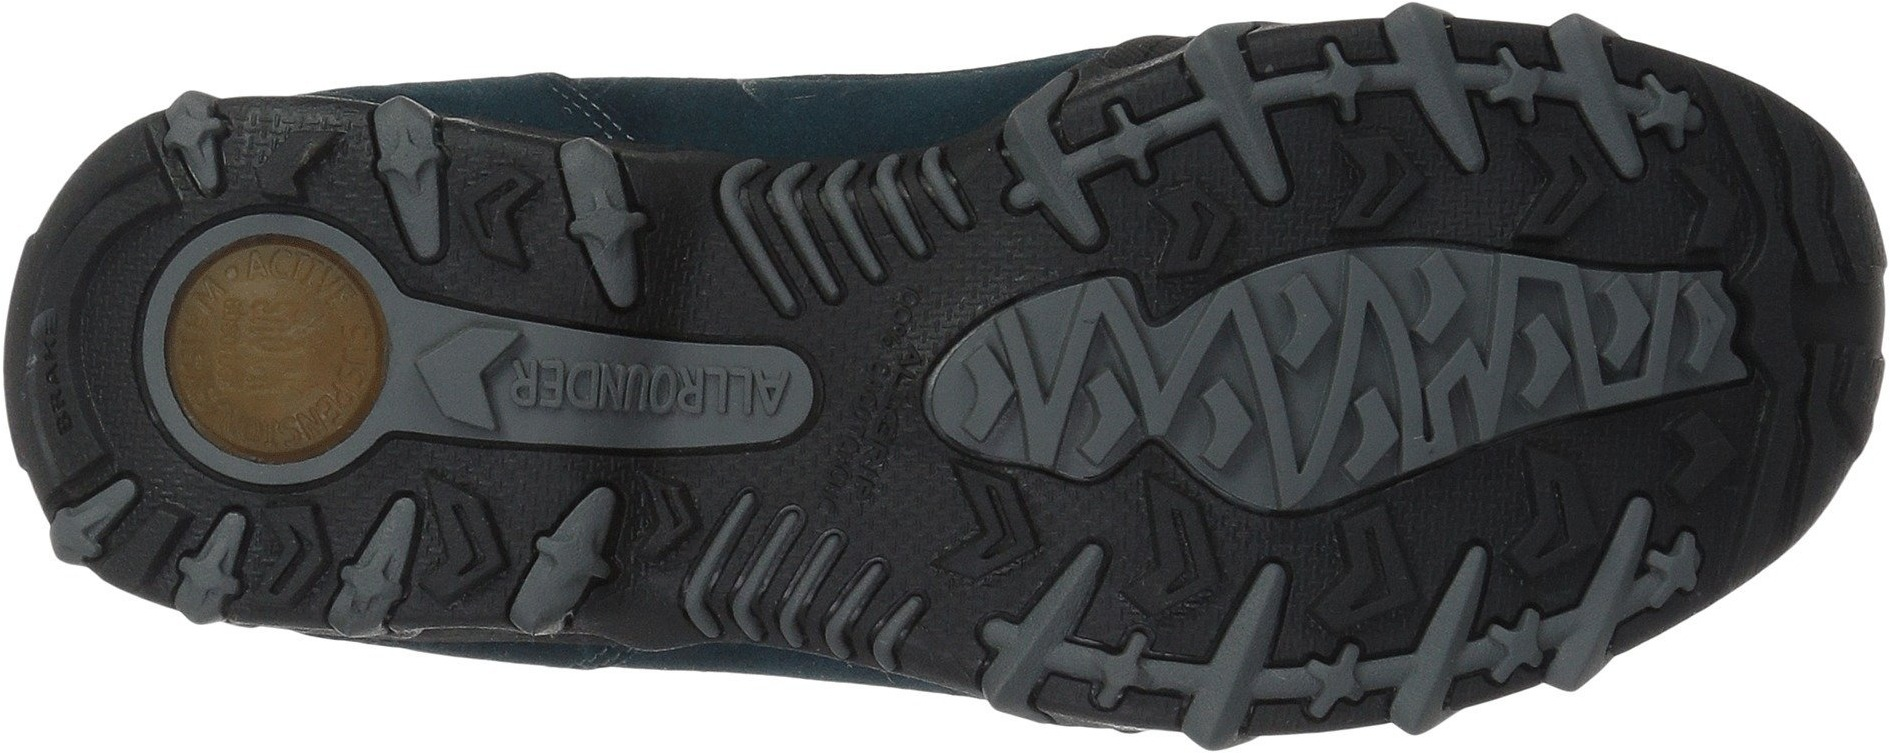chevron: (925, 259, 1193, 496), (1267, 255, 1492, 484), (1575, 267, 1761, 423), (1495, 442, 1632, 595), (1291, 494, 1450, 623), (407, 302, 538, 436), (1119, 467, 1235, 614), (1493, 114, 1613, 258), (1317, 106, 1430, 235), (411, 471, 507, 619), (1135, 167, 1250, 292), (243, 108, 368, 217), (445, 159, 551, 276), (1666, 146, 1767, 258), (1649, 398, 1739, 514), (616, 473, 704, 567)
circle: (136, 198, 415, 493), (535, 328, 817, 477)
line: (925, 259, 1193, 496), (1267, 255, 1492, 484), (708, 193, 892, 327), (704, 522, 806, 606)
quad: (1267, 255, 1492, 484), (1575, 267, 1761, 423)
text: (136, 198, 415, 493), (535, 328, 817, 477), (407, 302, 538, 436), (824, 351, 912, 490), (25, 311, 102, 453)
triangle: (925, 259, 1193, 496)
